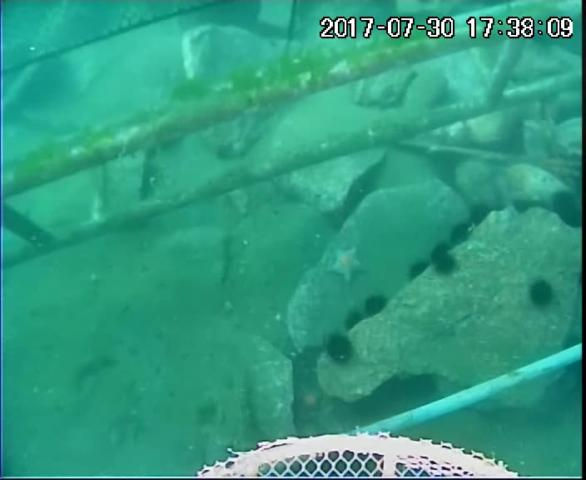echinus: (324, 334, 357, 369), (555, 189, 583, 227), (407, 373, 440, 404), (529, 276, 557, 311), (380, 378, 409, 408), (363, 293, 391, 317), (405, 261, 433, 282), (449, 224, 473, 248), (430, 243, 452, 267), (437, 252, 459, 275), (345, 310, 369, 331), (471, 204, 494, 225)
starfish: (327, 246, 371, 288), (294, 381, 327, 419)
